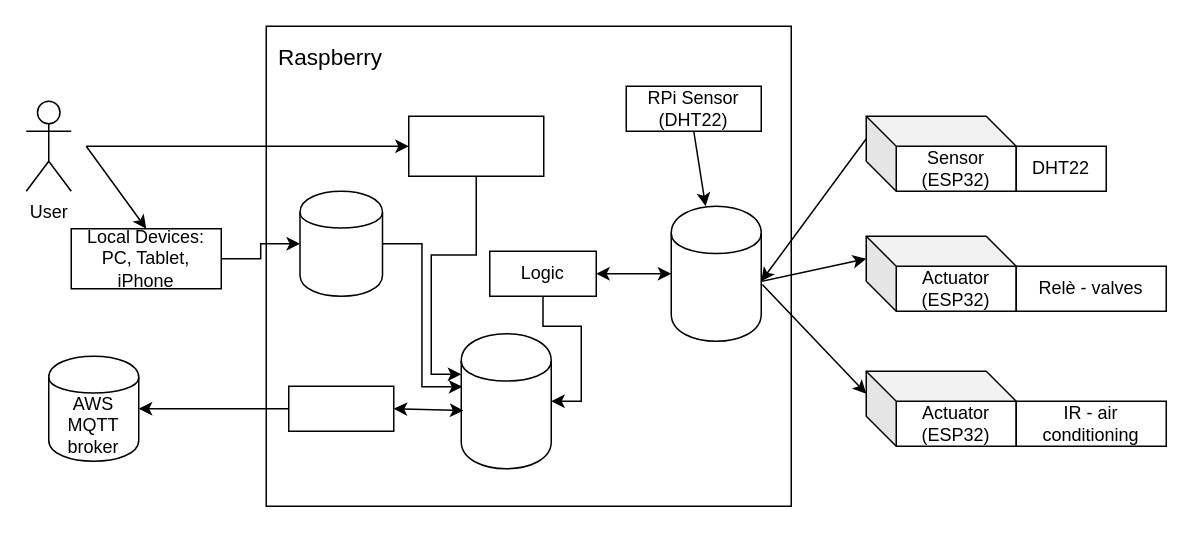
This 1193x533 diagram has some shape labels left out. The shapes that lost their labels are listed below. From the top down, each one's centre as x and y in pixels, then its label:
the point at 475,145: GUI - (Python)
the point at 340,243: Web Server
the point at 715,273: MQTT local broker
the point at 340,408: Log & Ping management
the point at 505,400: NoSQL Database (MongoDB)
